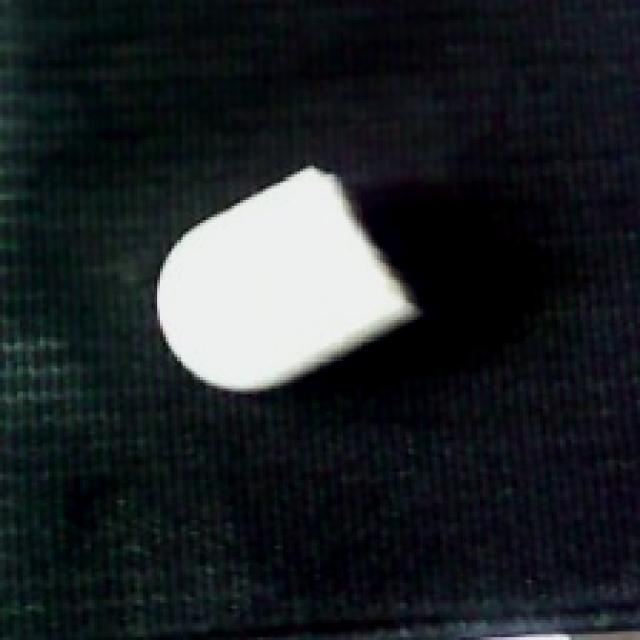defected: (152, 160, 432, 400)
